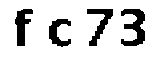3: (117, 7, 149, 51)
7: (80, 4, 113, 50)
c: (45, 16, 75, 50)
f: (10, 5, 38, 48)
